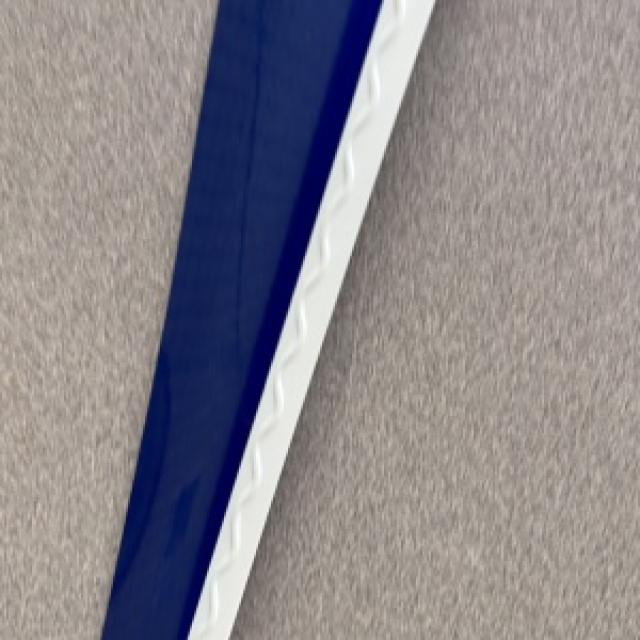healthy: (230, 0, 638, 638), (100, 0, 433, 638)
